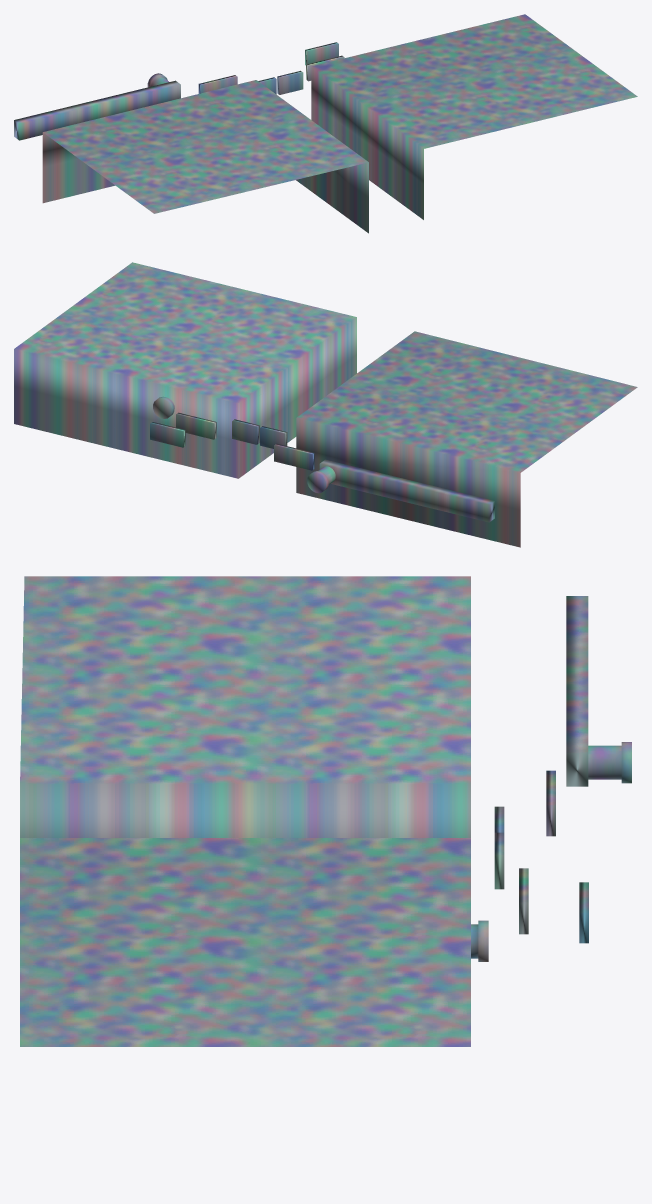
The model's file is transition_temporary.dae.
The picture shows the model from 3 angles, top to bottom: view 1: azimuth 30°, elevation 25°; view 2: azimuth 150°, elevation 25°; view 3: azimuth 270°, elevation 25°; orthographic projection. The views are drawn at different scales.
Visible parts, largest first — view 1: Mario_PastShape64, gimmickOFF_hideShape; view 2: Mario_PastShape64, gimmickOFF_hideShape; view 3: Mario_PastShape64, gimmickOFF_hideShape.
Part boxes in pixels (<box>): Mario_PastShape64: <box>14,14,637,233</box>; gimmickOFF_hideShape: <box>258,70,303,94</box>; Mario_PastShape64: <box>14,262,637,547</box>; gimmickOFF_hideShape: <box>232,419,287,448</box>; Mario_PastShape64: <box>20,576,631,1046</box>; gimmickOFF_hideShape: <box>494,806,504,889</box>.
Bounding box in the file's own units: 509 × 280 × 72.07.
Materials: 1 (1 with a texture image).
